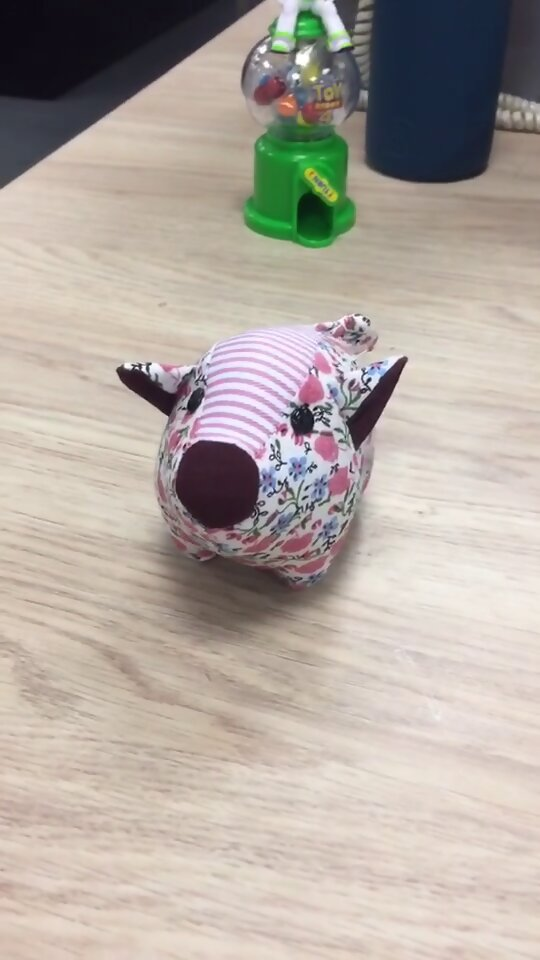pig: (115, 309, 409, 594)
